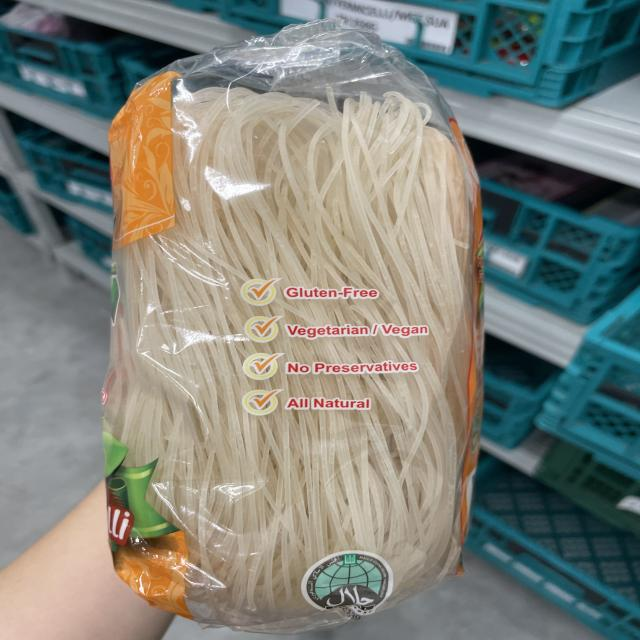object_name: (127, 76, 442, 616)
